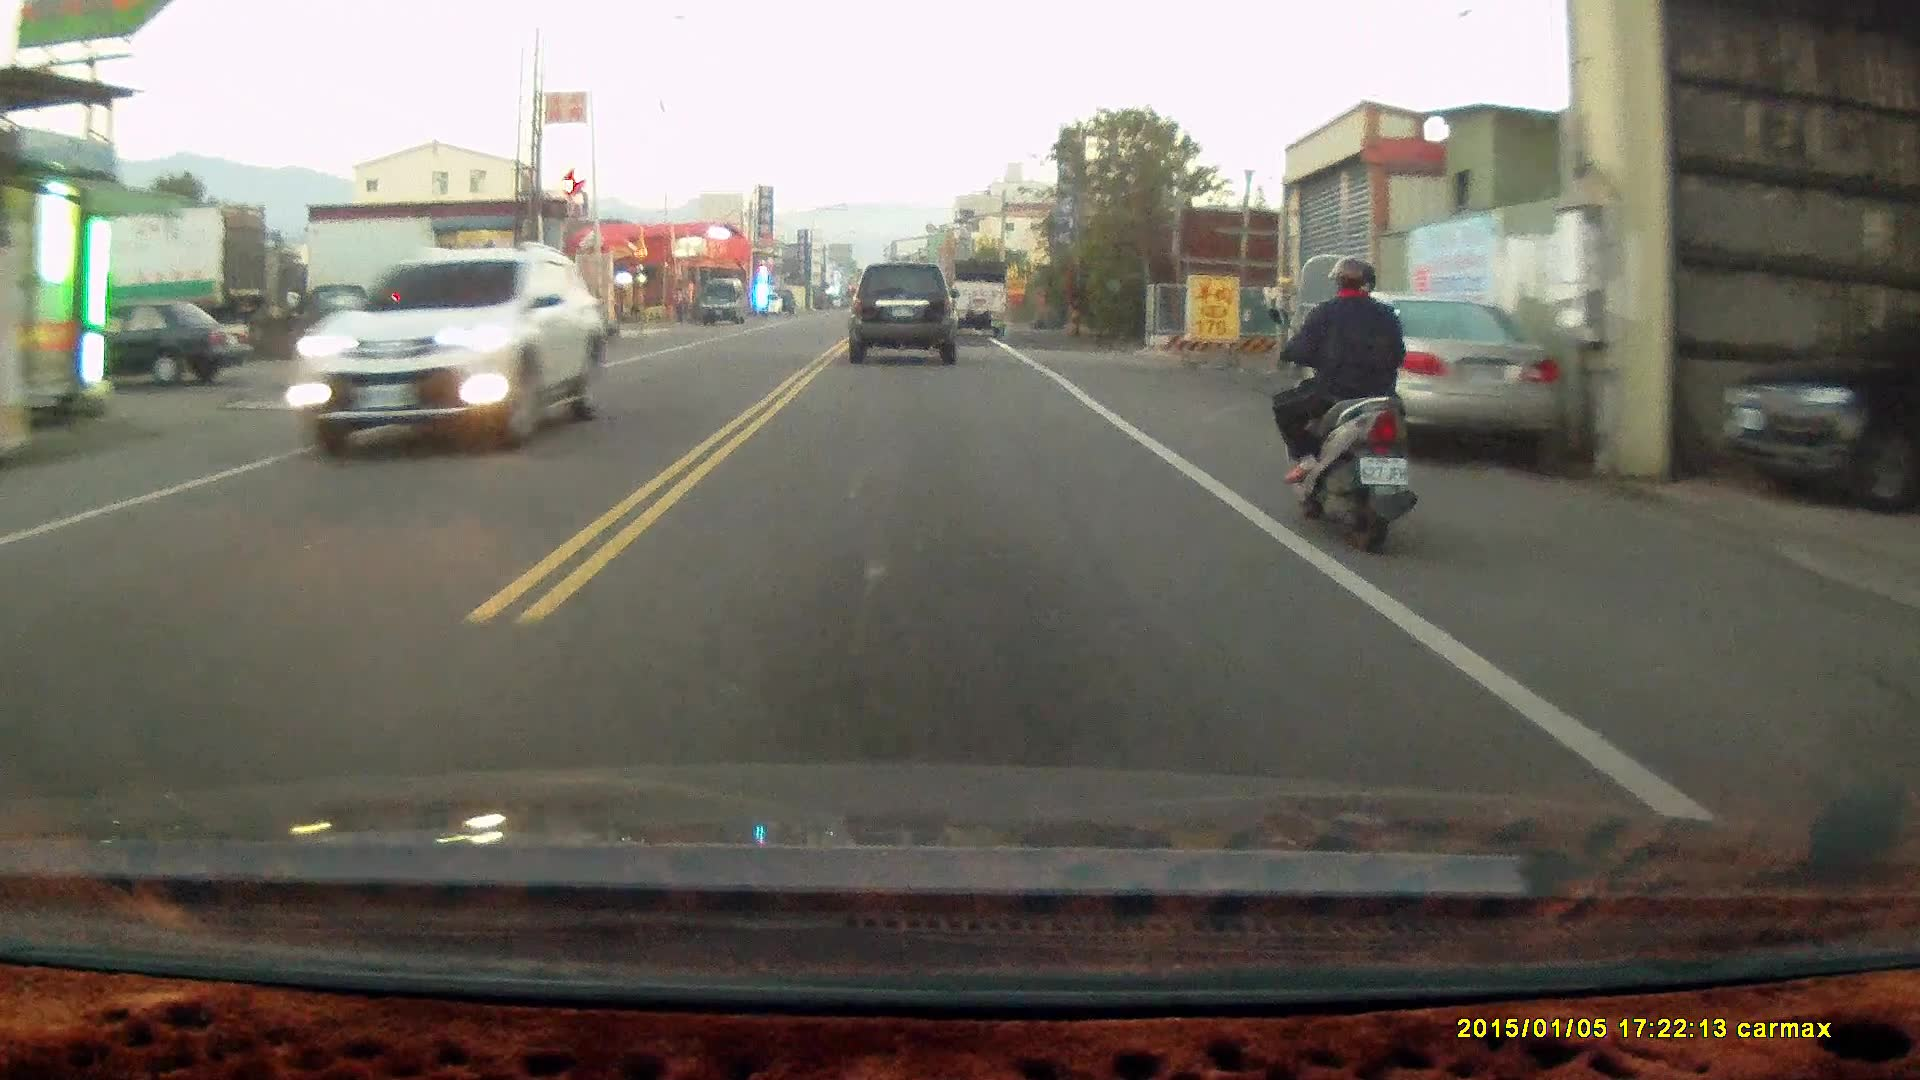rider: (1269, 250, 1417, 551)
vehicle: (285, 249, 606, 454), (1278, 291, 1554, 455), (1717, 293, 1920, 509), (82, 298, 253, 389), (849, 260, 962, 368), (948, 258, 1011, 339)
